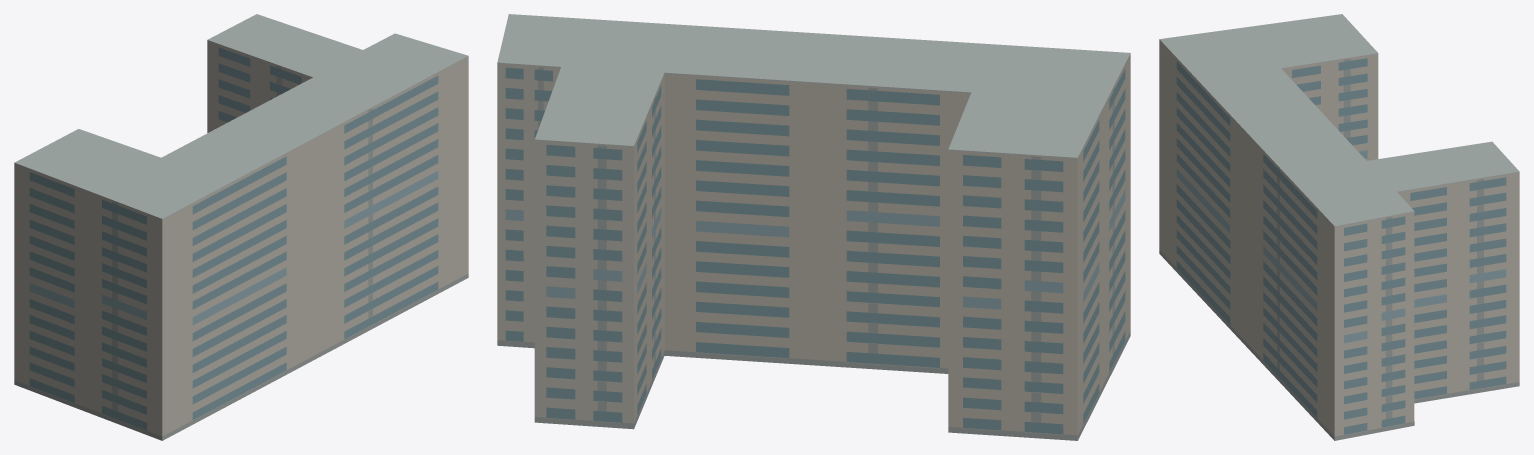
File: residential-42cfb0d4-fabd-4ede-bf44-b863b3de4527.glb
3 renders of one model, left to right at view 1: azimuth 30°, elevation 25°; view 2: azimuth 150°, elevation 25°; view 3: azimuth 270°, elevation 25°, orthographic. The views are drawn at different scales.
Visible parts, largest first — view 1: residential-42cfb0d4-fabd-4ede-bf44-b863b3de4527.tmp; view 2: residential-42cfb0d4-fabd-4ede-bf44-b863b3de4527.tmp; view 3: residential-42cfb0d4-fabd-4ede-bf44-b863b3de4527.tmp.
Boxes of the visible parts, box(x1,y1,x2,y2) form: residential-42cfb0d4-fabd-4ede-bf44-b863b3de4527.tmp: box(14, 14, 468, 440); residential-42cfb0d4-fabd-4ede-bf44-b863b3de4527.tmp: box(497, 14, 1130, 440); residential-42cfb0d4-fabd-4ede-bf44-b863b3de4527.tmp: box(1159, 14, 1519, 440).
Size of the model in its own units: 80.65 by 38 by 57.83.
